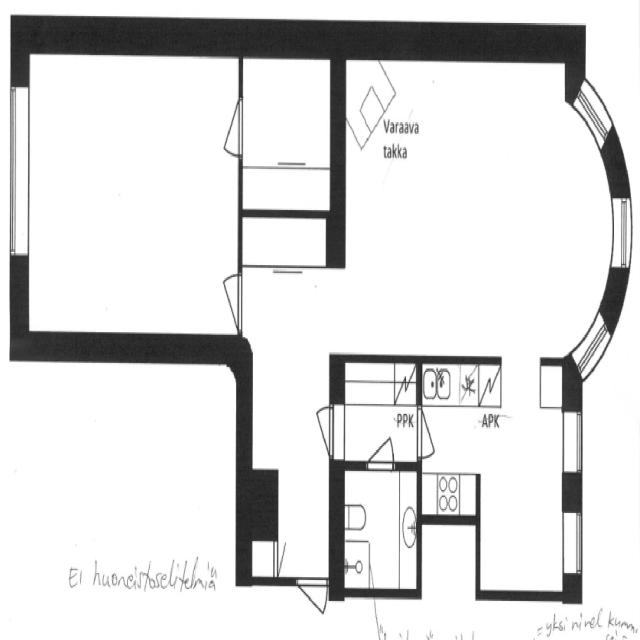door: (336, 360, 424, 470), (354, 77, 386, 146), (310, 399, 344, 463), (221, 90, 247, 163), (342, 98, 374, 155), (293, 570, 331, 617), (221, 266, 246, 335), (414, 399, 437, 466), (363, 433, 398, 473)
window: (3, 76, 35, 271), (575, 74, 611, 161), (606, 186, 636, 288), (561, 404, 585, 484), (566, 505, 584, 584)
zone: (340, 53, 601, 358), (23, 46, 244, 350), (476, 369, 572, 599), (238, 49, 334, 214), (339, 464, 418, 594), (420, 363, 484, 518), (336, 358, 422, 469)
